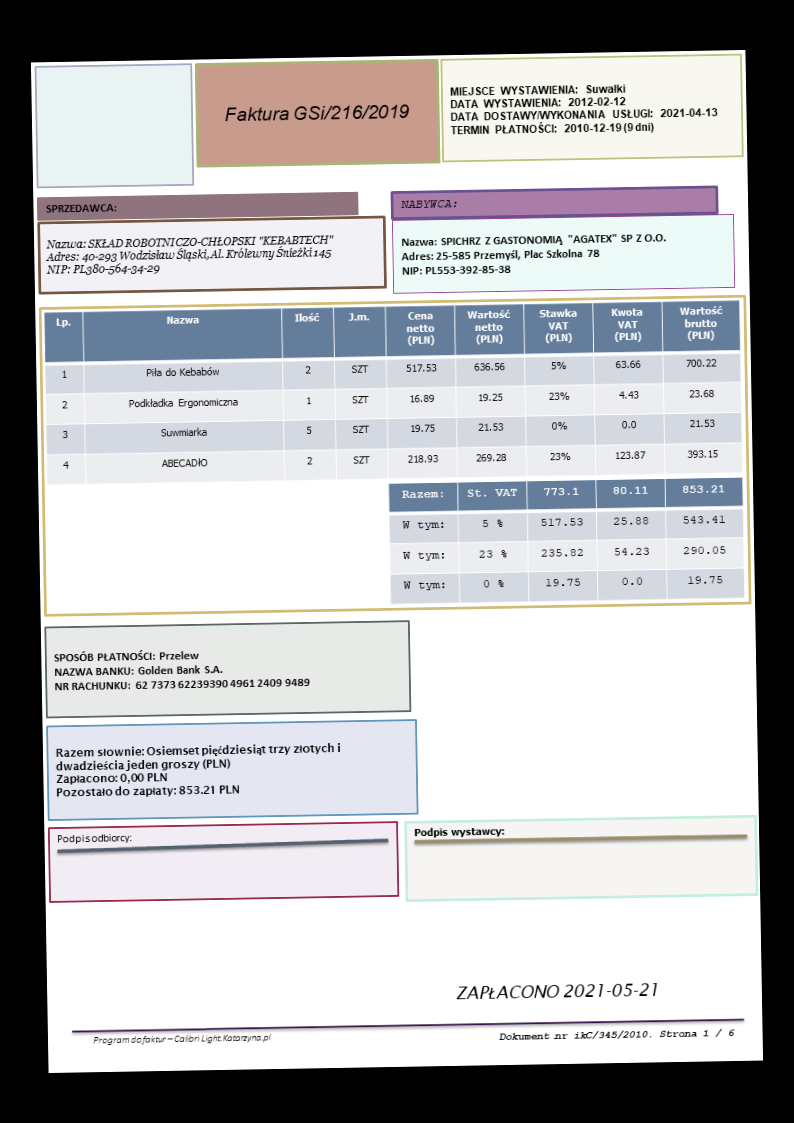Table: (42, 299, 743, 486), (388, 477, 745, 605)
TextBox: (54, 740, 344, 800), (448, 78, 719, 137), (44, 233, 338, 278), (52, 645, 311, 693), (399, 231, 669, 277), (453, 979, 659, 1005), (496, 1026, 737, 1044), (222, 101, 410, 124), (90, 1031, 274, 1048), (412, 824, 506, 841), (54, 830, 133, 847), (43, 200, 117, 215), (400, 197, 457, 211)
